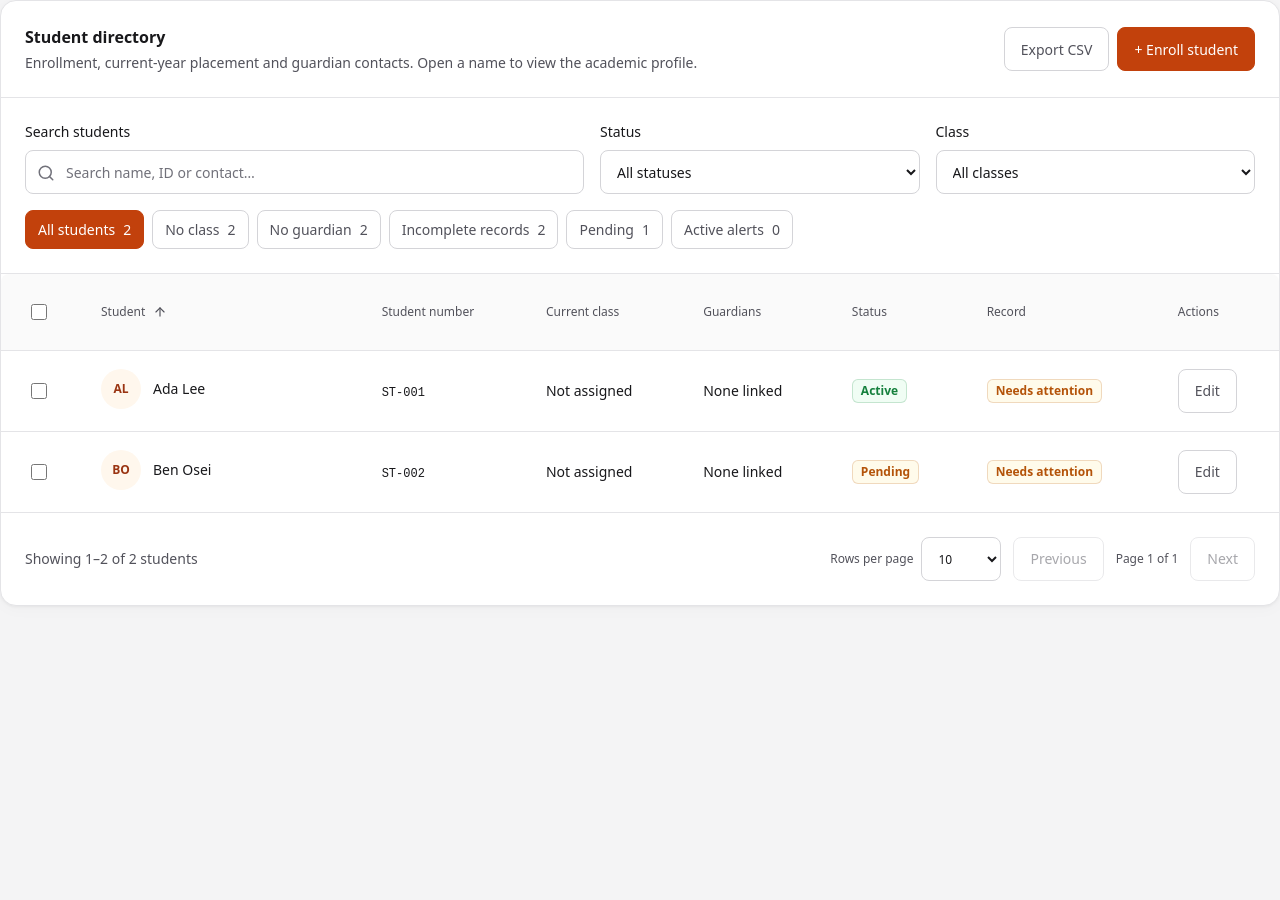
administrator directory integration › keeps failed updates selected and displays the server error
Click the checkbox named "Select Ada Lee". click: (39, 391)
box: x1=31 y1=383 x2=47 y2=399
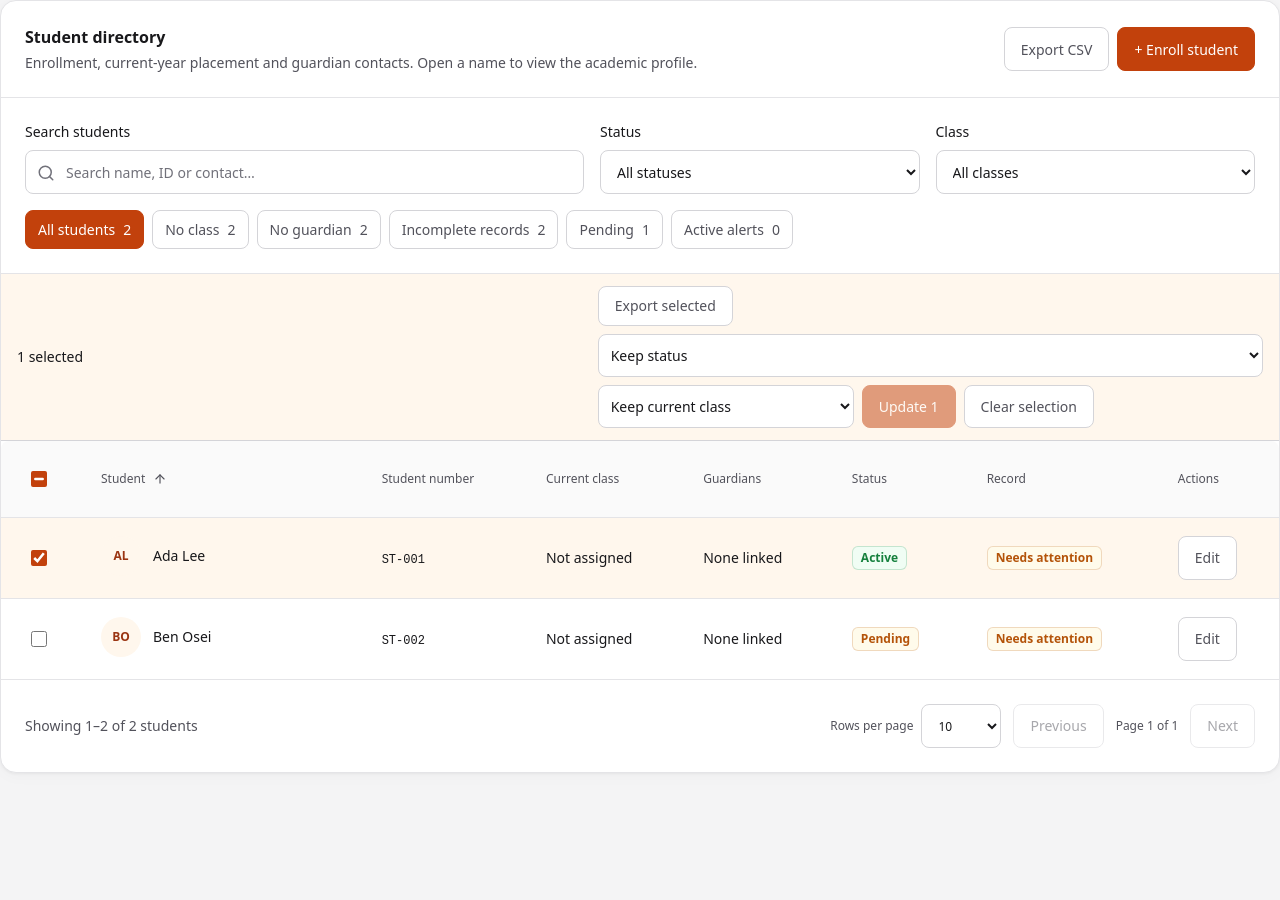
Select "Pending" in the dropdown named "Set selected students’ status". click: (930, 356)
box: x1=598 y1=334 x2=1263 y2=377
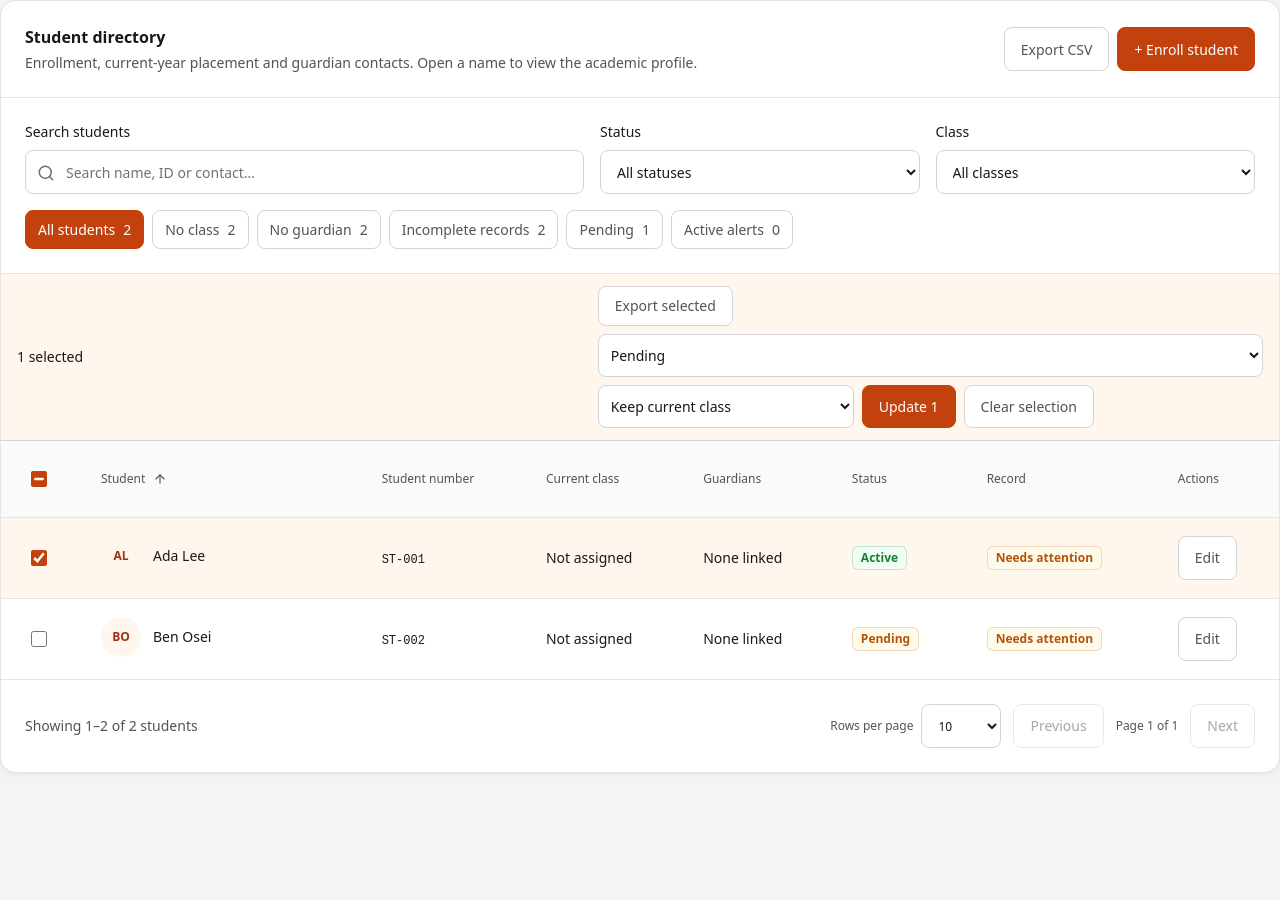
Click the button "Update 1". click: (909, 406)
box: x1=862 y1=385 x2=956 y2=428
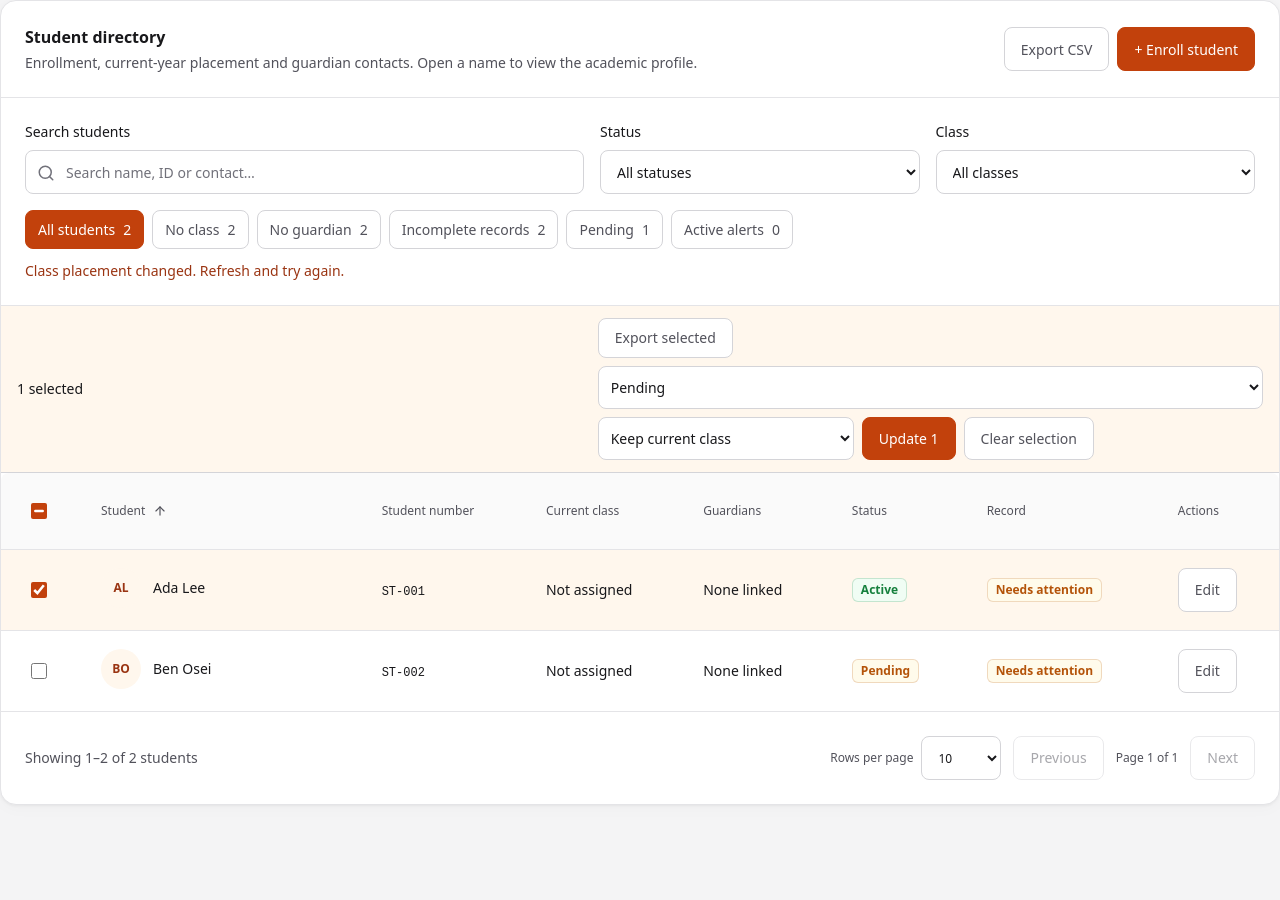
Expected: the checkbox named "Select Ada Lee" is checked, x1=31 y1=582 x2=47 y2=598
Expected: the text "Class placement changed. Refresh and try again." is shown, x1=25 y1=261 x2=344 y2=280
